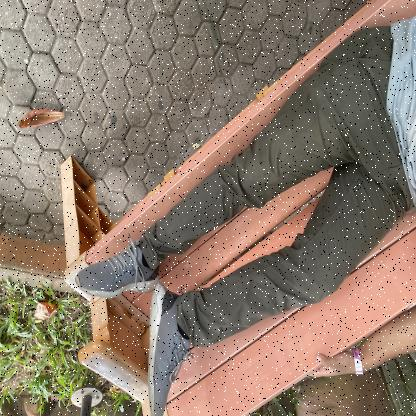hand: (311, 344, 416, 390)
leg: (129, 277, 303, 416), (48, 174, 224, 296)
